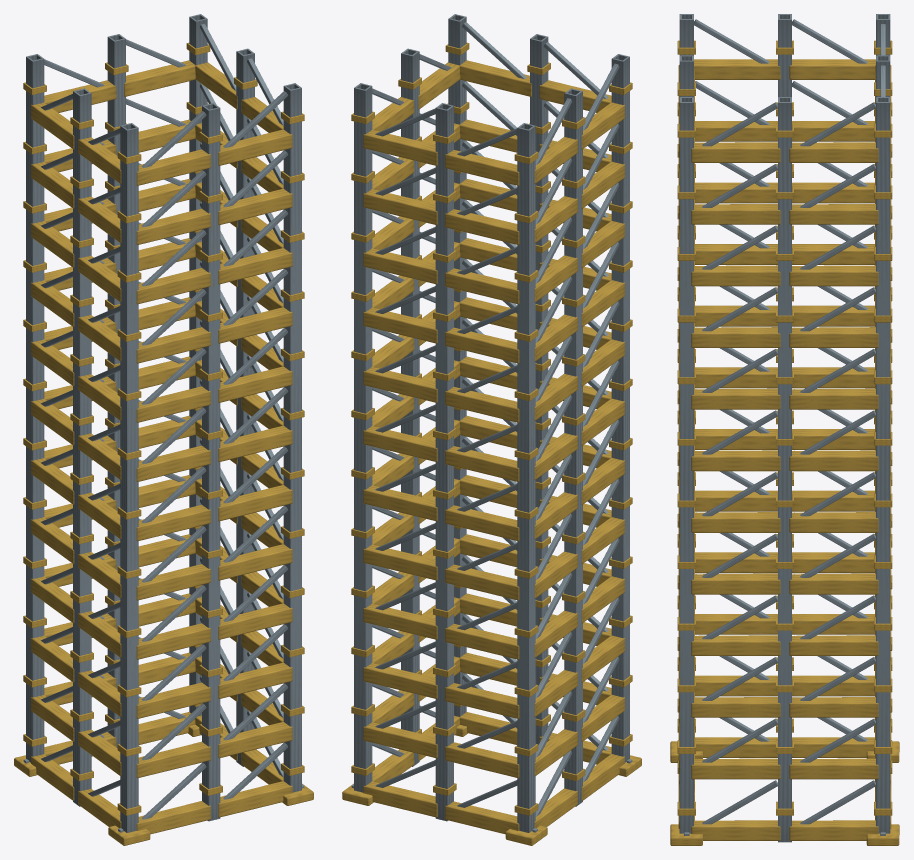
The picture shows the model from 3 angles, left to right: view 1: azimuth 30°, elevation 25°; view 2: azimuth 150°, elevation 25°; view 3: azimuth 270°, elevation 25°; orthographic projection. The views are drawn at different scales.
Visible parts, largest first — view 1: Tier 0 side 0 post 0, Tier 0 side 1 post 0, Tier 0 side 0 post 1, Tier 0 side 3 post 0, Tier 0 side 3 post 1, Tier 0 side 1 post 1, Tier 0 side 2 post 1, Tier 0 side 2 post 0, Tier 0 bay 0-1-0 service deck, Tier 0 bay 0-4-0 service deck, Tier 0 bay 0-2-0 service deck, Tier 0 bay 0-3-1 service deck (+70 smaller); view 2: Tier 0 side 3 post 0, Tier 0 side 2 post 0, Tier 0 side 2 post 1, Tier 0 side 0 post 0, Tier 0 side 3 post 1, Tier 0 side 1 post 1, Tier 0 side 0 post 1, Tier 0 side 1 post 0, Tier 0 bay 2-5-1 service deck, Tier 0 bay 2-4-1 service deck, Tier 0 bay 2-5-0 service deck, Tier 0 bay 2-9-1 service deck (+70 smaller); view 3: Tier 0 side 1 post 0, Tier 0 side 2 post 0, Tier 0 side 1 post 1, Tier 0 bay 1-6-0 service deck, Tier 0 bay 1-6-1 service deck, Tier 0 bay 1-9-1 service deck, Tier 0 bay 1-9-0 service deck, Tier 0 bay 1-1-0 service deck, Tier 0 bay 1-1-1 service deck, Tier 0 bay 1-4-0 service deck, Tier 0 bay 1-4-1 service deck, Tier 0 bay 1-7-1 service deck (+72 smaller).
Boxes of the visible parts, x1,y1,x2,y2 form: Tier 0 side 0 post 0: (120, 123, 138, 832); Tier 0 side 1 post 0: (283, 83, 301, 792); Tier 0 side 0 post 1: (202, 103, 220, 821); Tier 0 side 3 post 0: (26, 54, 44, 762); Tier 0 side 3 post 1: (73, 88, 91, 806); Tier 0 side 1 post 1: (236, 48, 254, 766); Tier 0 side 2 post 1: (107, 34, 125, 747); Tier 0 side 2 post 0: (189, 14, 207, 716); Tier 0 bay 0-1-0 service deck: (136, 741, 210, 778); Tier 0 bay 0-4-0 service deck: (136, 564, 210, 600); Tier 0 bay 0-2-0 service deck: (136, 682, 210, 718); Tier 0 bay 0-3-1 service deck: (218, 603, 292, 639); Tier 0 side 3 post 0: (517, 123, 535, 832); Tier 0 side 2 post 0: (354, 83, 372, 792); Tier 0 side 2 post 1: (435, 103, 453, 821); Tier 0 side 0 post 0: (611, 54, 629, 762); Tier 0 side 3 post 1: (564, 88, 582, 806); Tier 0 side 1 post 1: (401, 48, 419, 766); Tier 0 side 0 post 1: (530, 34, 548, 744); Tier 0 side 1 post 0: (448, 14, 466, 716); Tier 0 bay 2-5-1 service deck: (445, 505, 519, 541); Tier 0 bay 2-4-1 service deck: (445, 564, 519, 600); Tier 0 bay 2-5-0 service deck: (363, 485, 437, 521); Tier 0 bay 2-9-1 service deck: (445, 268, 519, 304); Tier 0 side 1 post 0: (679, 97, 693, 833); Tier 0 side 2 post 0: (876, 97, 890, 833); Tier 0 side 1 post 1: (778, 97, 791, 842); Tier 0 bay 1-6-0 service deck: (691, 450, 780, 471); Tier 0 bay 1-6-1 service deck: (789, 450, 878, 471); Tier 0 bay 1-9-1 service deck: (789, 265, 878, 286); Tier 0 bay 1-9-0 service deck: (691, 265, 780, 286); Tier 0 bay 1-1-0 service deck: (691, 758, 780, 779); Tier 0 bay 1-1-1 service deck: (789, 758, 878, 779); Tier 0 bay 1-4-0 service deck: (691, 573, 780, 594); Tier 0 bay 1-4-1 service deck: (789, 573, 878, 594); Tier 0 bay 1-7-1 service deck: (789, 388, 878, 409).
Bounding box in the file's own units: 1.05 × 3.74 × 1.05.
2 materials, 2 textured.
